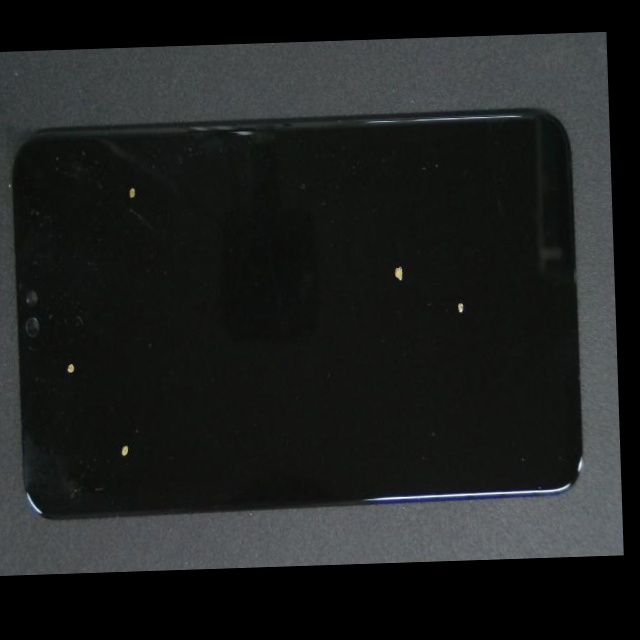stain: (148, 178, 600, 428), (236, 170, 619, 436), (59, 222, 189, 574), (21, 179, 102, 519), (56, 94, 189, 260)
